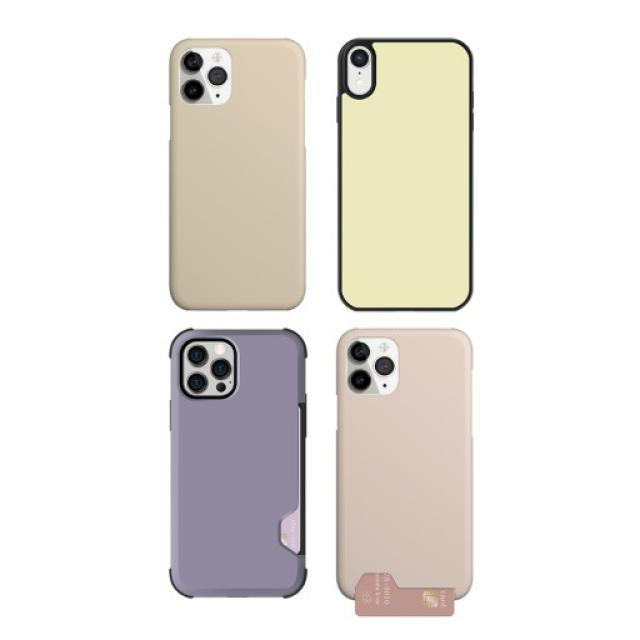phone: (336, 34, 476, 313), (168, 326, 310, 598), (168, 35, 306, 312)
